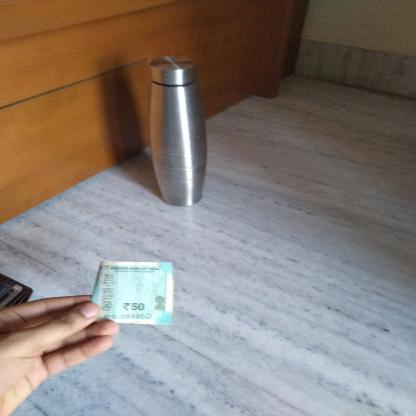New50Front: (92, 264, 166, 322)
